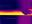Hotspot: (0, 10, 25, 15)
